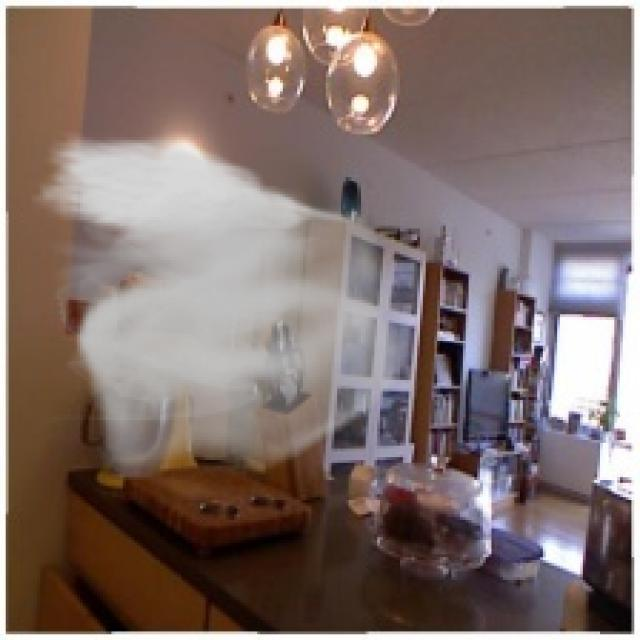Smoke: (32, 131, 414, 480)
